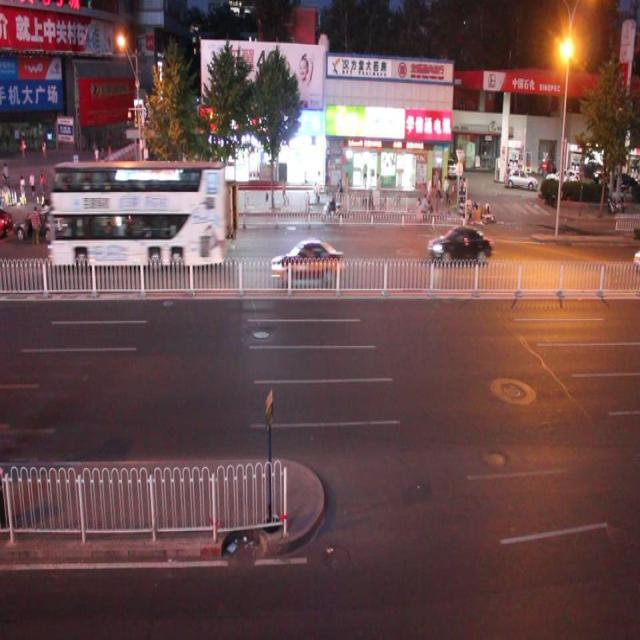bus: (153, 184, 240, 259)
car: (270, 235, 343, 288), (426, 224, 494, 268), (120, 210, 182, 251), (13, 204, 69, 248), (86, 200, 129, 242), (47, 183, 80, 219)
van: (47, 157, 227, 268)
